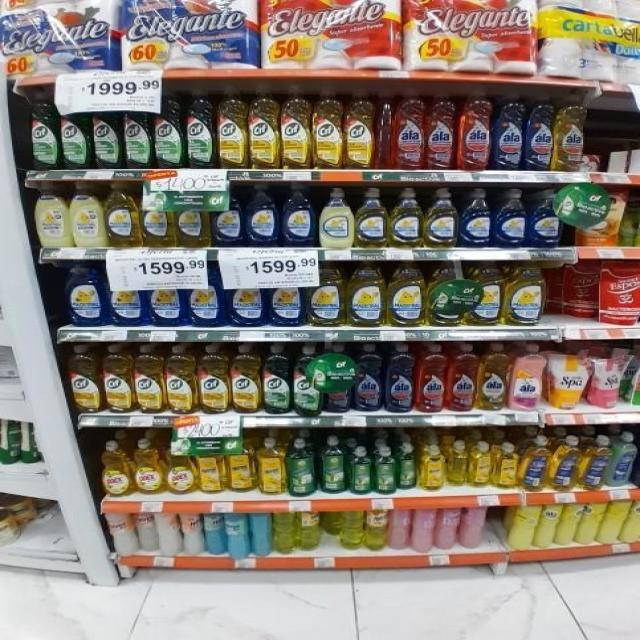ala_conc_amarillo: (554, 93, 586, 172), (478, 342, 508, 411)
ala_conc_azul: (493, 92, 525, 171), (526, 93, 554, 171), (323, 342, 353, 414), (385, 342, 414, 413), (354, 342, 383, 413)
ala_conc_rojo: (458, 90, 491, 171), (392, 88, 424, 170), (425, 90, 456, 171), (446, 342, 476, 412), (416, 342, 445, 413)
ala_sachet_amarillo: (550, 343, 586, 410)
ala_ultra_rosa: (510, 342, 546, 411)
cif_conc_bot_amarilla: (280, 84, 311, 170), (248, 84, 279, 169), (344, 89, 376, 170), (217, 85, 247, 169), (313, 87, 343, 169), (198, 342, 230, 414), (68, 344, 100, 414), (102, 343, 133, 413), (231, 342, 261, 414), (134, 342, 164, 414), (166, 343, 196, 414)
cif_conc_botella_verde: (185, 87, 216, 169), (28, 88, 58, 171), (154, 89, 184, 169), (61, 93, 90, 170), (92, 94, 121, 170), (124, 94, 152, 170), (262, 343, 291, 415), (292, 343, 320, 416)
heroe: (348, 446, 373, 495), (374, 445, 397, 495), (398, 443, 418, 491)
magistral_con_amarillo: (505, 261, 546, 326), (347, 259, 386, 327), (388, 260, 426, 327), (308, 260, 345, 327), (105, 180, 140, 248), (141, 183, 174, 248), (471, 261, 503, 326), (177, 186, 210, 248), (424, 188, 458, 248), (355, 187, 388, 248), (390, 187, 422, 248), (579, 435, 608, 490)
magistral_con_azul: (64, 261, 106, 327), (107, 267, 146, 327), (282, 182, 316, 247), (247, 182, 280, 247), (228, 271, 266, 327), (188, 271, 225, 328), (268, 270, 304, 327), (148, 272, 185, 327), (212, 184, 244, 247), (529, 188, 562, 248), (459, 188, 492, 248), (494, 188, 526, 249)
magistral_con_crema: (34, 179, 68, 248), (70, 180, 104, 247), (319, 187, 353, 248)
odex: (133, 438, 164, 495), (166, 439, 196, 495)
zorro: (520, 435, 548, 492), (550, 435, 578, 492)
